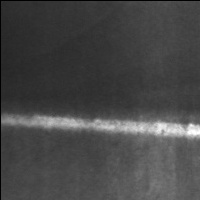scratches: (1, 111, 200, 140)
